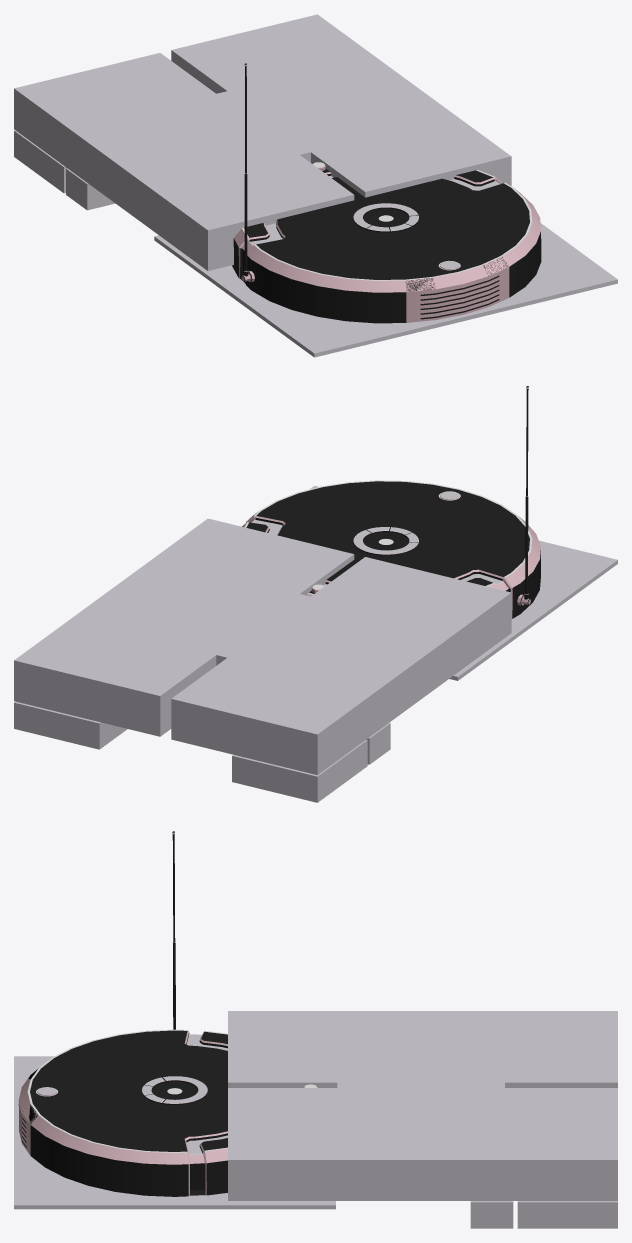
File: Vacuum V2.fbx
The picture shows the model from 3 angles, top to bottom: view 1: azimuth 30°, elevation 25°; view 2: azimuth 150°, elevation 25°; view 3: azimuth 270°, elevation 25°; orthographic projection.
Parts seen in each view (by area): view 1: Cleaner, MainTrigger, TriggerTopLeft, TriggerTopRight, TriggerFloor, TriggerBottomLeft, TriggerBottomLeftBack; view 2: TriggerTopLeft, MainTrigger, TriggerTopRight, Cleaner, TriggerFloor, TriggerBottomLeft, TriggerBottomRight, TriggerBottomLeftBack; view 3: Cleaner, TriggerTopRight, MainTrigger, TriggerTopLeft, TriggerFloor, TriggerBottomRight, TriggerBottomRightBack.
Boxes of the visible parts, x1=… form: Cleaner: x1=232, y1=63, x2=541, y2=323; MainTrigger: x1=70, y1=55, x2=456, y2=230; TriggerTopLeft: x1=14, y1=53, x2=354, y2=270; TriggerTopRight: x1=171, y1=14, x2=511, y2=197; TriggerFloor: x1=154, y1=223, x2=617, y2=357; TriggerBottomLeft: x1=14, y1=130, x2=67, y2=193; TriggerBottomLeftBack: x1=66, y1=168, x2=115, y2=210; TriggerTopLeft: x1=171, y1=557, x2=511, y2=774; MainTrigger: x1=70, y1=558, x2=456, y2=733; TriggerTopRight: x1=14, y1=518, x2=354, y2=736; Cleaner: x1=242, y1=386, x2=540, y2=618; TriggerFloor: x1=310, y1=486, x2=617, y2=680; TriggerBottomLeft: x1=232, y1=740, x2=367, y2=802; TriggerBottomRight: x1=14, y1=701, x2=127, y2=749; TriggerBottomLeftBack: x1=366, y1=723, x2=390, y2=764; Cleaner: x1=18, y1=831, x2=317, y2=1196; TriggerTopRight: x1=228, y1=1088, x2=617, y2=1200; MainTrigger: x1=337, y1=1011, x2=504, y2=1200; TriggerTopLeft: x1=228, y1=1011, x2=617, y2=1087; TriggerFloor: x1=14, y1=1056, x2=335, y2=1209; TriggerBottomRight: x1=517, y1=1201, x2=617, y2=1228; TriggerBottomRightBack: x1=470, y1=1201, x2=513, y2=1228.
Bounding box in the file's own units: 0.5254 × 0.4169 × 0.9007.
